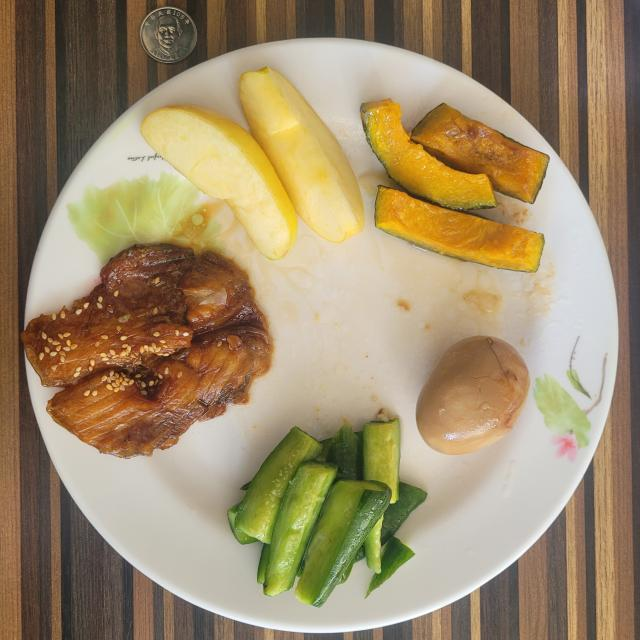Kabayaki sea bream fillet: (21, 244, 272, 458)
apple -sliced-: (141, 66, 364, 260)
coin: (140, 6, 198, 64)
cucumber: (228, 412, 426, 606)
pumpkin: (361, 100, 549, 271)
soy egg: (416, 336, 530, 455)
